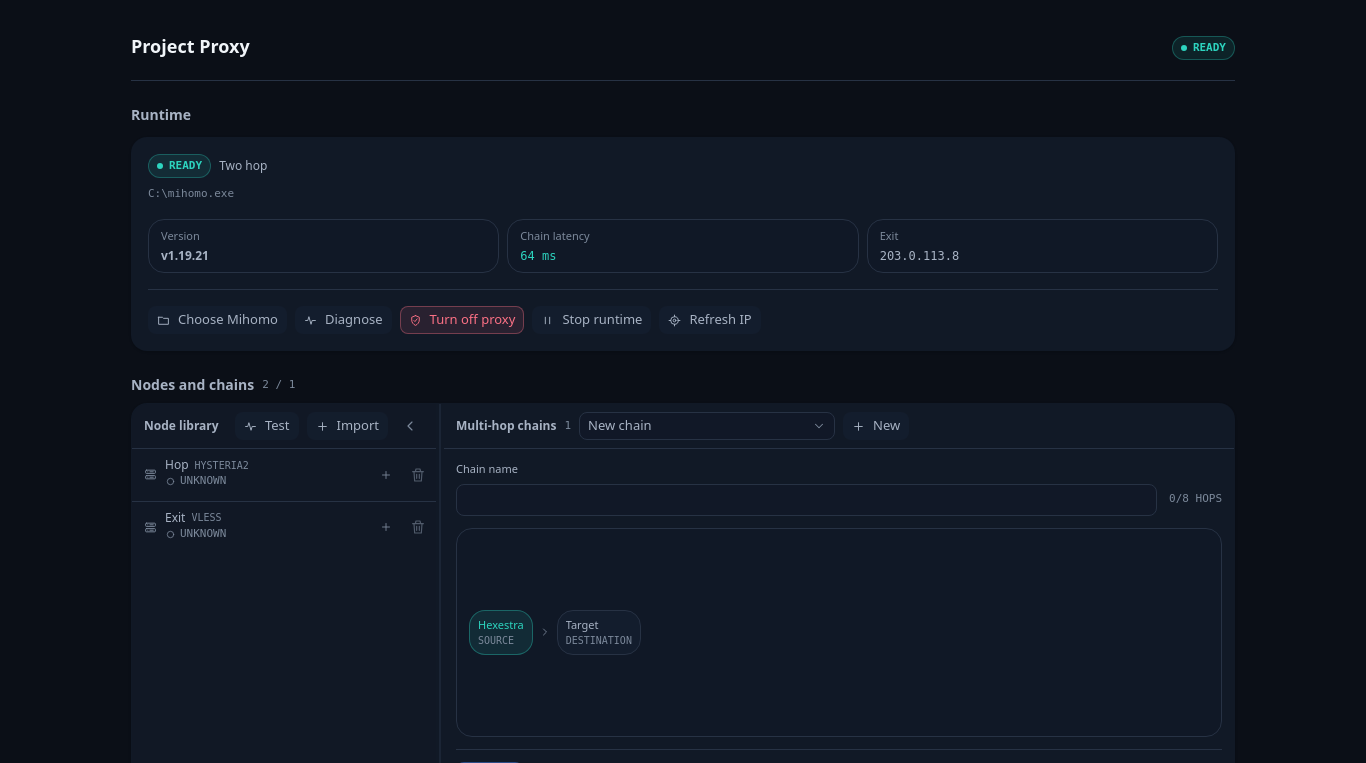
Test: ProxySettings › shows per-hop and total latency without TCP or UDP readiness labels
Expected: the text "Two hop" is shown, [219,158,267,174]
Click the button "Test" at (267,426), box [235,412,298,440]
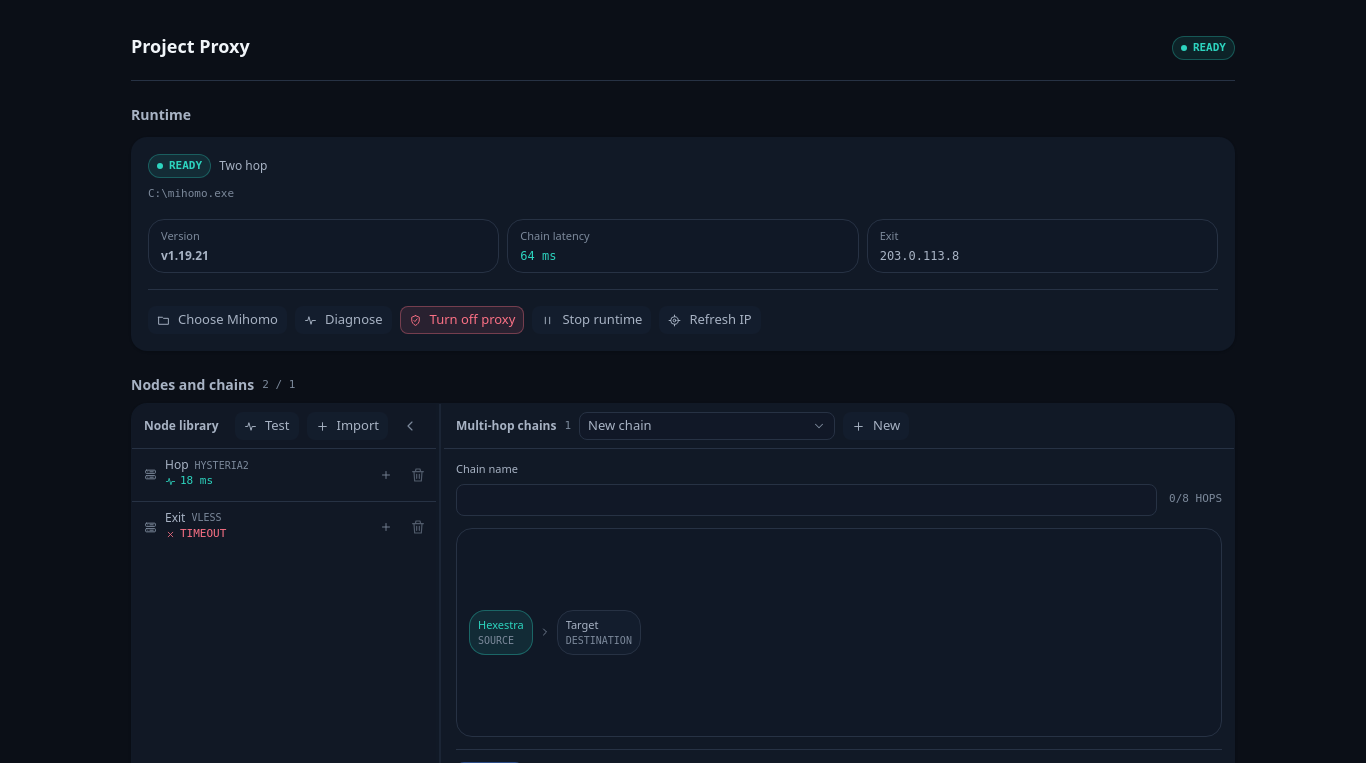
Result: the text "18 ms" is shown at [165,473,213,490]
Result: the text "TIMEOUT" is shown at [165,526,226,542]
Click the dropdown named "Select proxy chain" at (707,426), box [579,412,835,440]
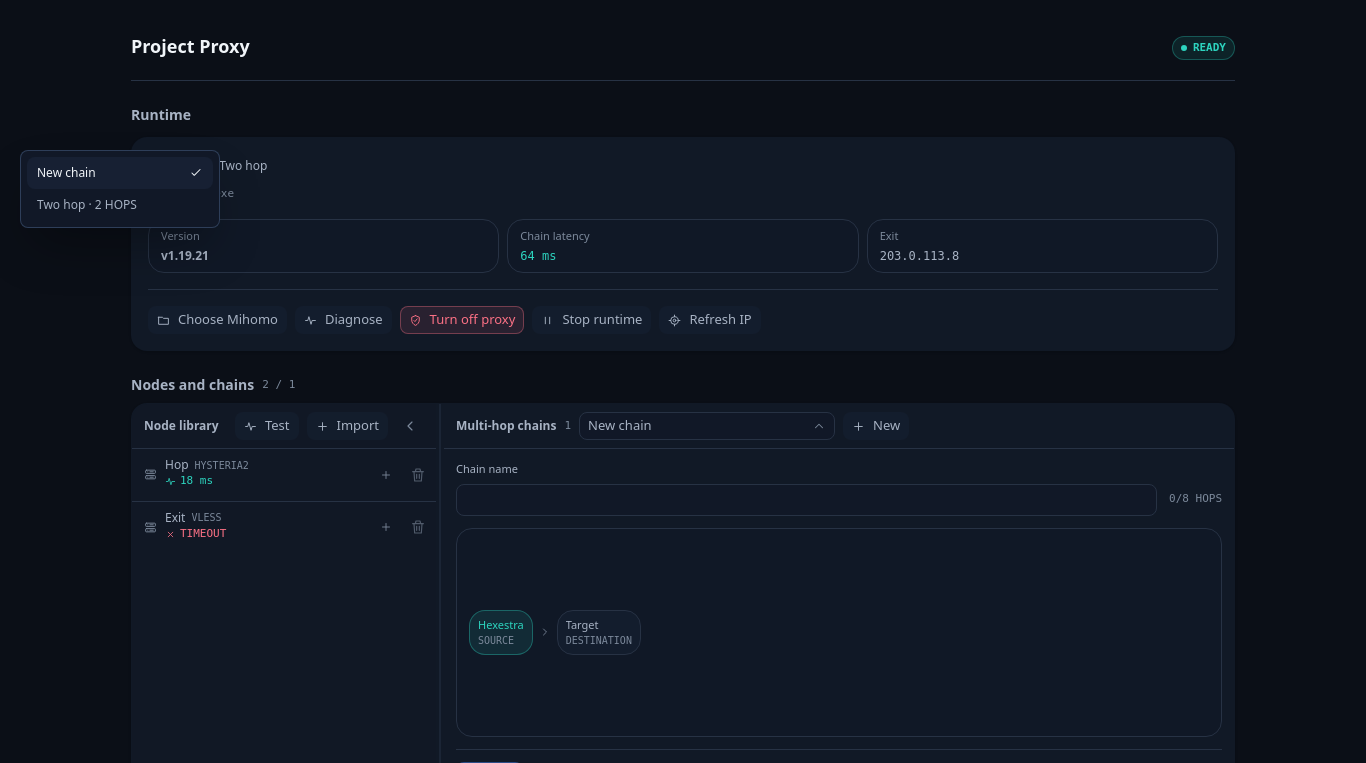
Click the option "Two hop · 2 HOPS" at (87,204), box [37,196,137,213]
(page scrolled)
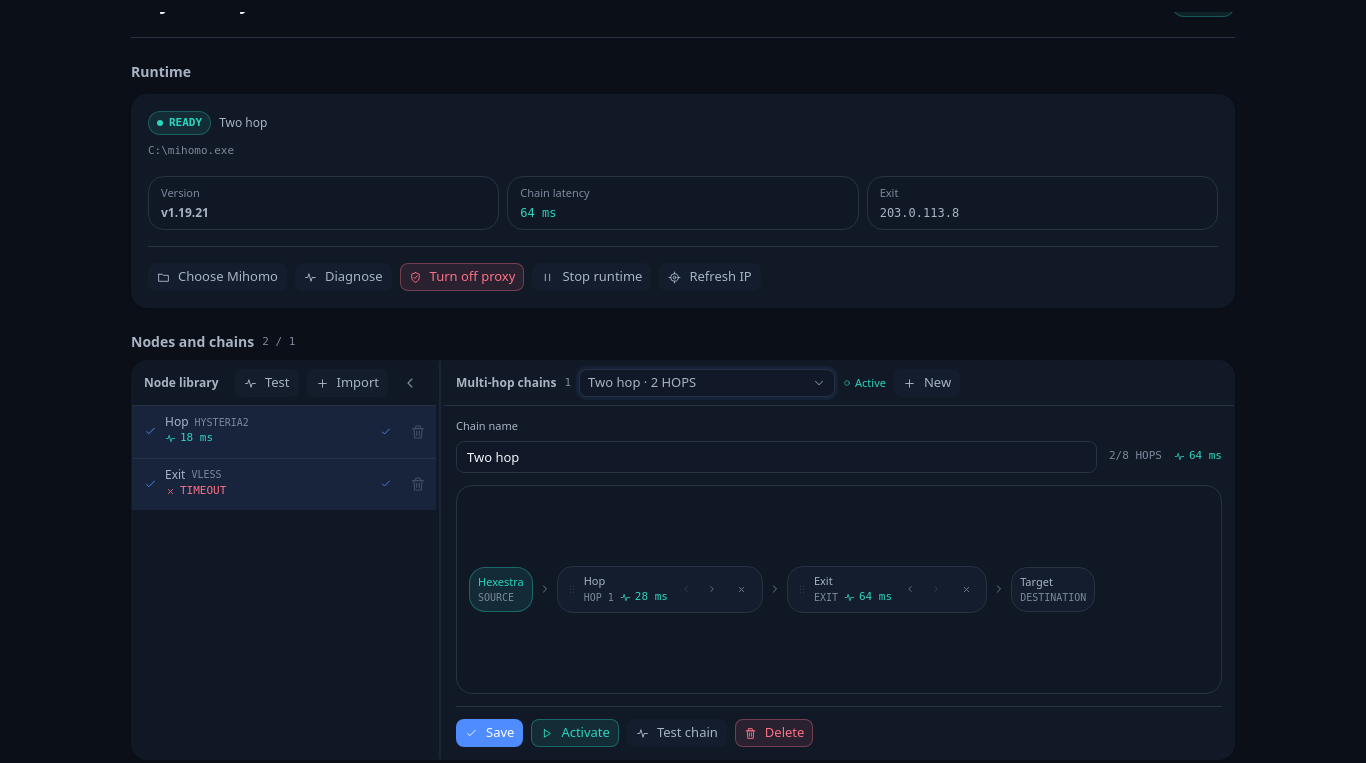
Result: the text "28 ms" is shown at [620,589,668,606]
Click the button "Test chain" at (677,733), box [627,719,727,747]
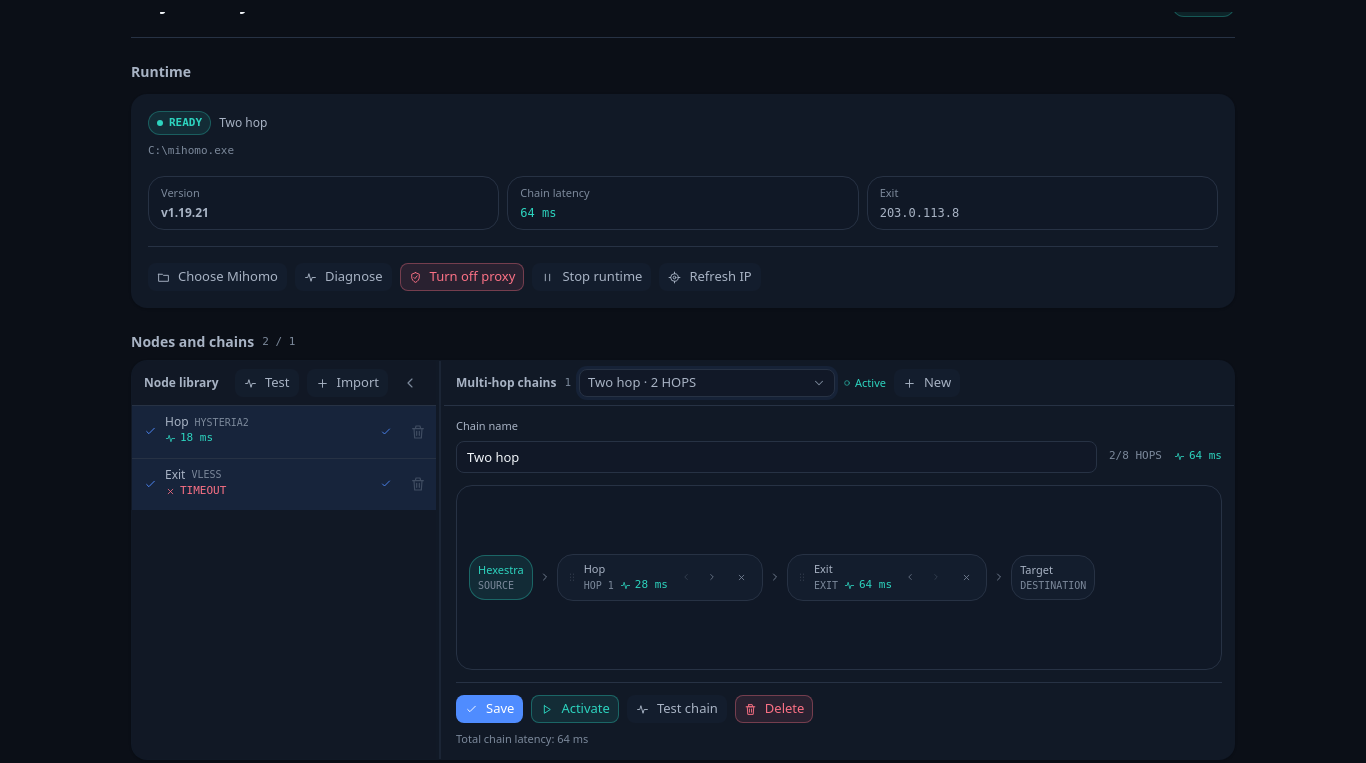
Result: the text "Total chain latency: 64 ms" is shown at [456,731,588,746]
